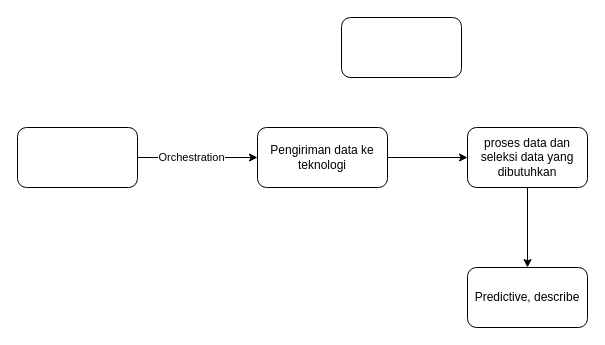
Image size: 605x345. Some labels were removed from this diagram. The shapes that lost their labels are listed below. From the top down, each one's centre as x and y in pixels, then its label:
At point 401,47: "Peran Teknologi".
At point 77,157: "Penyimpanan invoice dan pengecekan kecocokan".
